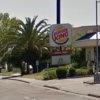Palm tree: (9, 10, 43, 72)
